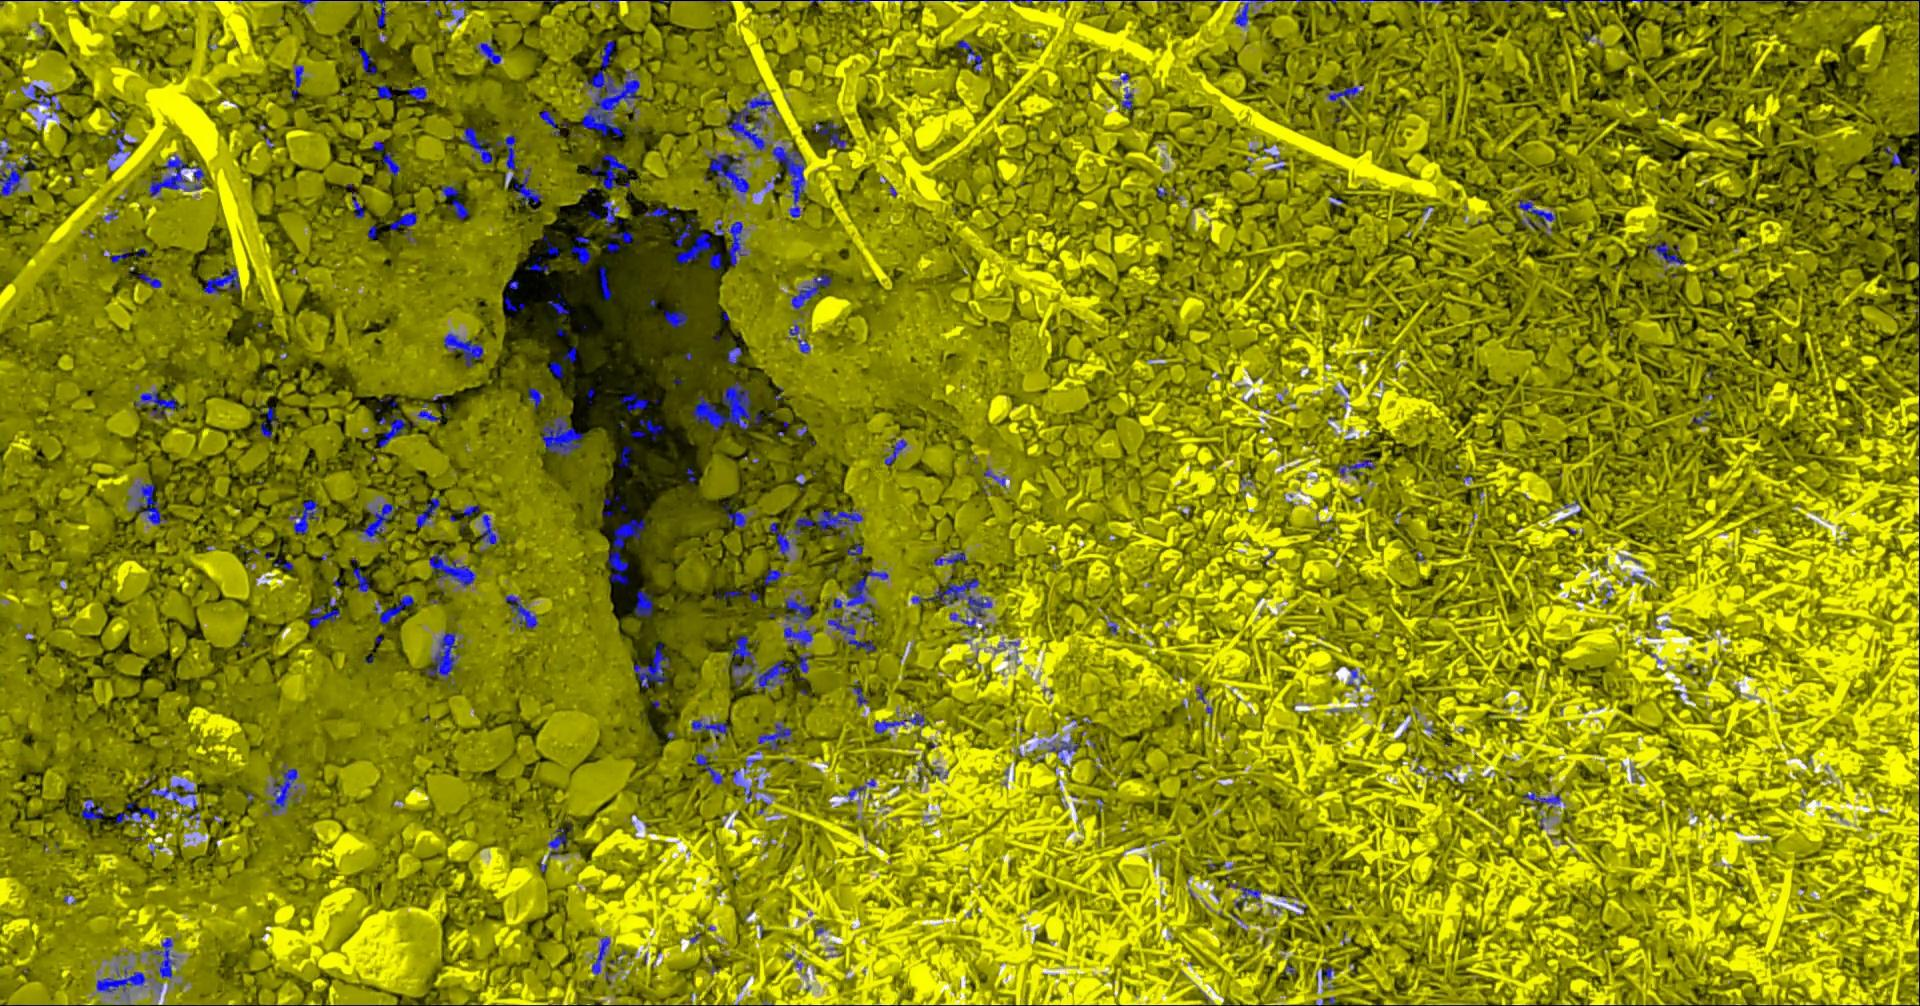ant: (910, 577, 990, 627), (495, 133, 542, 205), (725, 94, 778, 150), (607, 518, 644, 586), (771, 146, 805, 217), (752, 653, 811, 694), (149, 154, 204, 196), (832, 567, 888, 608), (827, 611, 875, 652), (707, 152, 749, 196), (632, 641, 669, 687), (781, 597, 814, 648), (541, 415, 583, 455), (425, 631, 458, 681), (428, 551, 475, 586), (0, 137, 27, 196), (712, 218, 745, 265), (135, 481, 168, 525), (790, 274, 830, 309), (442, 333, 483, 367), (590, 152, 627, 189), (135, 390, 183, 418), (269, 763, 297, 812), (149, 782, 196, 810), (362, 503, 399, 539), (460, 126, 494, 164), (377, 414, 417, 447), (730, 635, 756, 685), (95, 967, 145, 992), (287, 498, 321, 533), (872, 713, 930, 733), (676, 232, 711, 263), (1517, 199, 1556, 227), (505, 594, 537, 627), (439, 183, 469, 218), (1234, 0, 1275, 25), (202, 265, 239, 293), (372, 141, 401, 175), (378, 594, 413, 624), (757, 720, 791, 749), (309, 596, 339, 627), (28, 84, 61, 113), (1228, 880, 1261, 909), (811, 121, 846, 149), (1048, 735, 1079, 765), (116, 801, 157, 823), (695, 752, 723, 784), (1326, 80, 1359, 107), (588, 199, 621, 226), (389, 211, 417, 241), (1647, 241, 1684, 264), (154, 937, 174, 978), (1336, 459, 1375, 479), (546, 827, 571, 857), (957, 39, 982, 71), (590, 935, 610, 974), (415, 497, 439, 527), (479, 514, 502, 545), (883, 438, 907, 465), (690, 719, 728, 735), (80, 798, 107, 821), (570, 235, 590, 264), (620, 391, 649, 412), (933, 551, 966, 569), (477, 39, 502, 64), (367, 0, 389, 27), (789, 324, 809, 352), (847, 779, 875, 799), (1523, 791, 1559, 807), (110, 128, 132, 154), (637, 418, 663, 439), (259, 406, 277, 437), (724, 503, 745, 527), (358, 46, 376, 75), (538, 109, 559, 135), (290, 64, 303, 100), (632, 589, 651, 616), (350, 567, 370, 591), (417, 401, 439, 420), (1879, 145, 1900, 165), (547, 293, 568, 314), (983, 467, 1004, 486), (664, 309, 687, 326), (852, 681, 867, 708), (350, 191, 364, 218), (599, 265, 611, 298), (844, 542, 863, 561), (763, 568, 783, 586), (674, 224, 690, 246), (528, 257, 551, 272), (138, 272, 161, 287), (1316, 967, 1335, 984), (503, 296, 524, 311), (617, 445, 631, 467), (406, 85, 425, 100), (610, 230, 632, 243), (527, 387, 541, 408), (715, 589, 742, 600), (728, 345, 742, 365), (456, 504, 479, 516), (273, 558, 293, 570), (376, 84, 392, 99), (644, 206, 668, 216), (1121, 86, 1131, 109), (1270, 154, 1284, 170), (563, 345, 577, 362), (549, 361, 563, 377), (110, 249, 128, 262), (709, 251, 721, 268), (546, 241, 557, 257), (1399, 0, 1454, 3)
